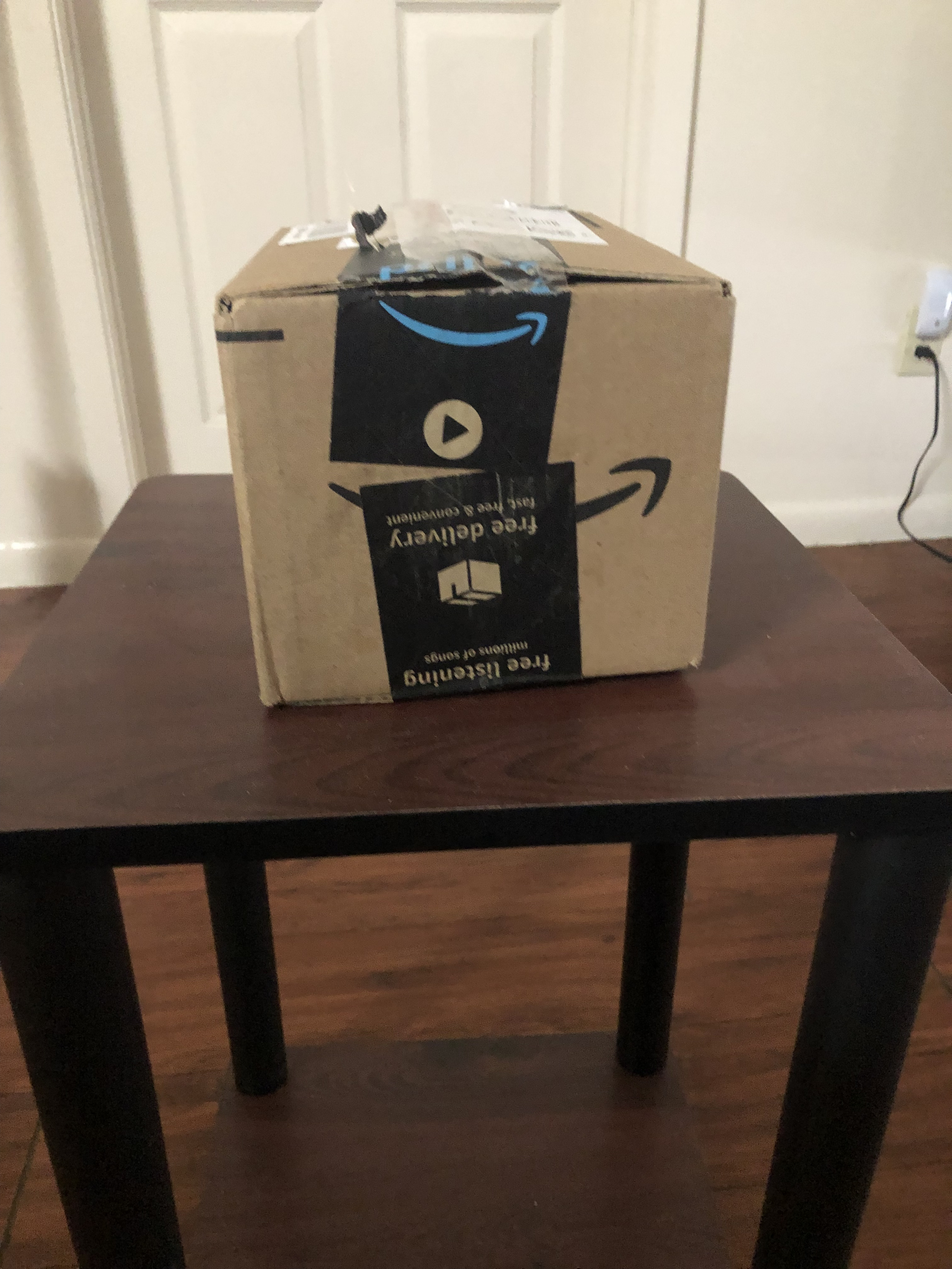package: (201, 197, 749, 717)
